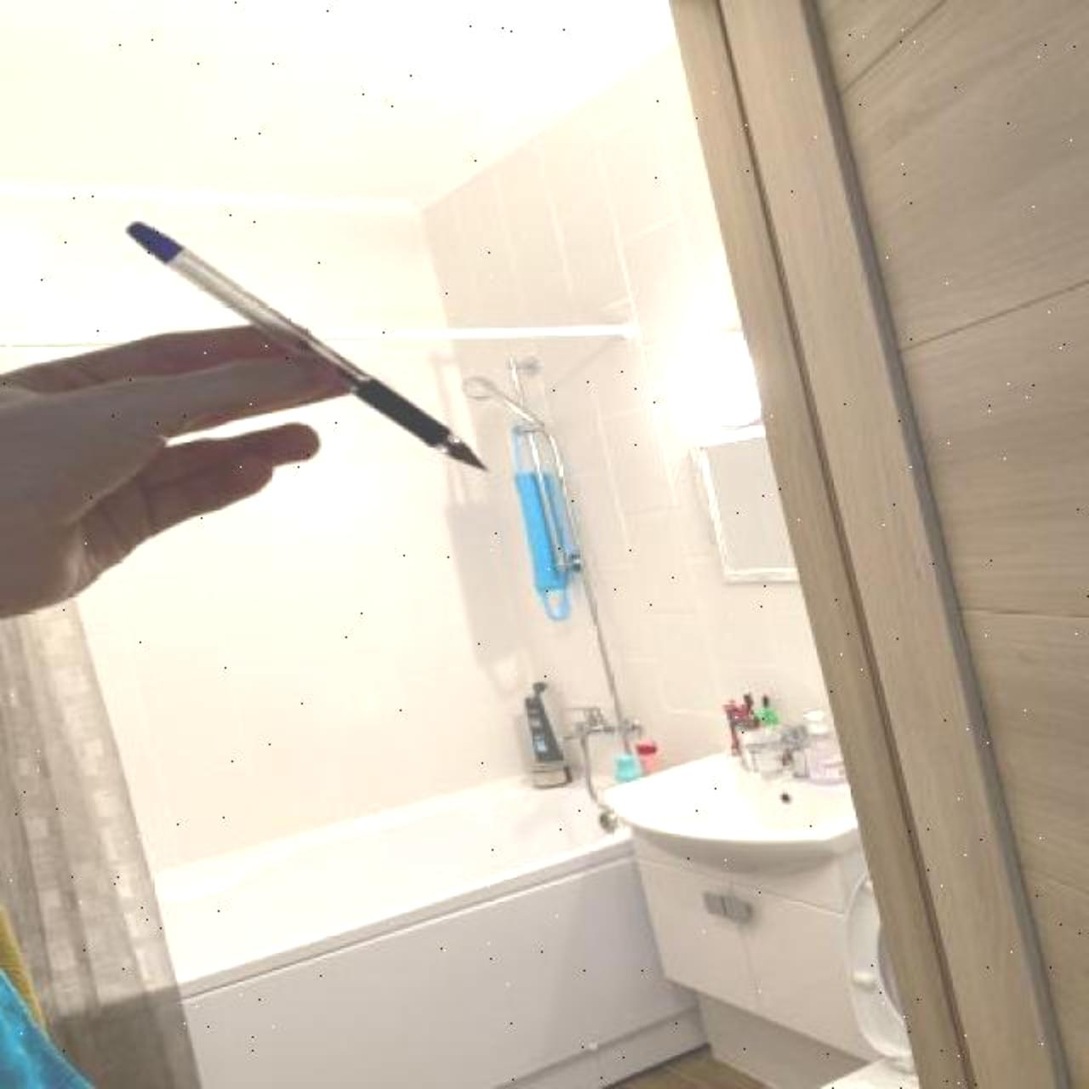pen: (123, 220, 495, 475)
